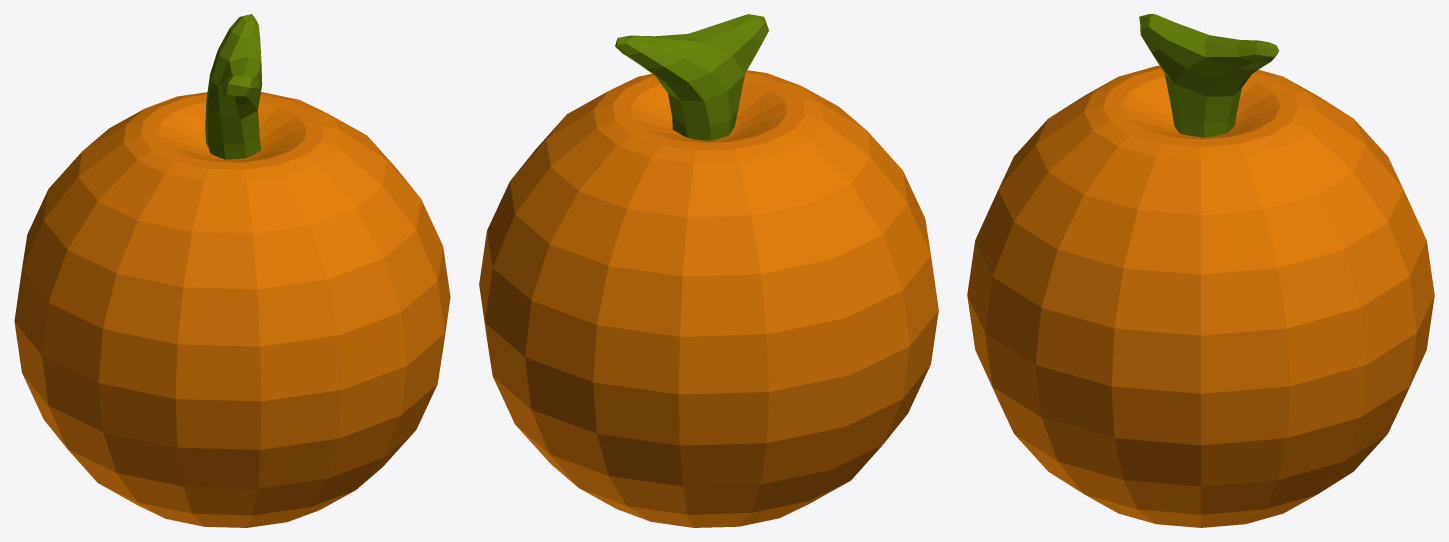
File: the orange.fbx
3 views of the same model, side by side, from view 1: azimuth 30°, elevation 25°; view 2: azimuth 150°, elevation 25°; view 3: azimuth 270°, elevation 25° (orthographic). The views are drawn at different scales.
Visible parts, largest first — view 1: Sphere; view 2: Sphere; view 3: Sphere.
Boxes of the visible parts, x1,y1,x2,y2 form: Sphere: (14, 14, 450, 527); Sphere: (479, 14, 938, 527); Sphere: (967, 14, 1434, 527).
Bounding box in the file's own units: 28.87 × 33.17 × 28.87.
